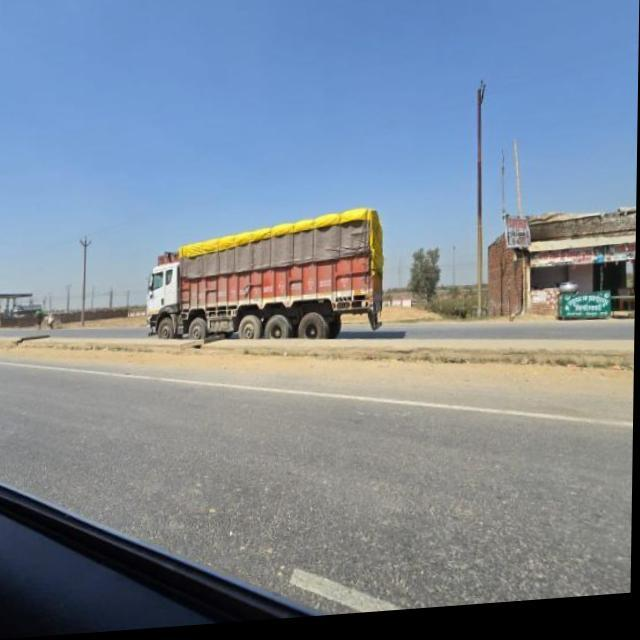covered: (150, 214, 386, 342)
